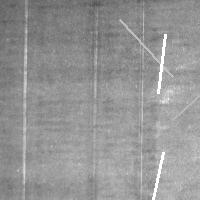scratches: (115, 15, 178, 82), (18, 4, 32, 197), (168, 75, 200, 124), (141, 147, 168, 200), (153, 29, 170, 98), (188, 97, 200, 134)
